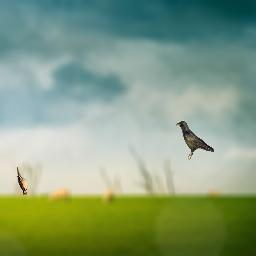Crow: (175, 120, 214, 160)
Swallow: (17, 167, 27, 195)
